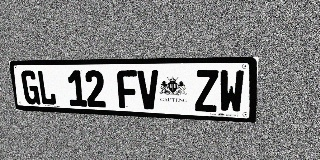1: (66, 70, 87, 107)
2: (84, 70, 106, 107)
F: (117, 70, 139, 109)
G: (20, 70, 41, 105)
L: (37, 70, 57, 105)
V: (137, 70, 159, 110)
W: (219, 70, 244, 113)
Z: (195, 70, 218, 112)
